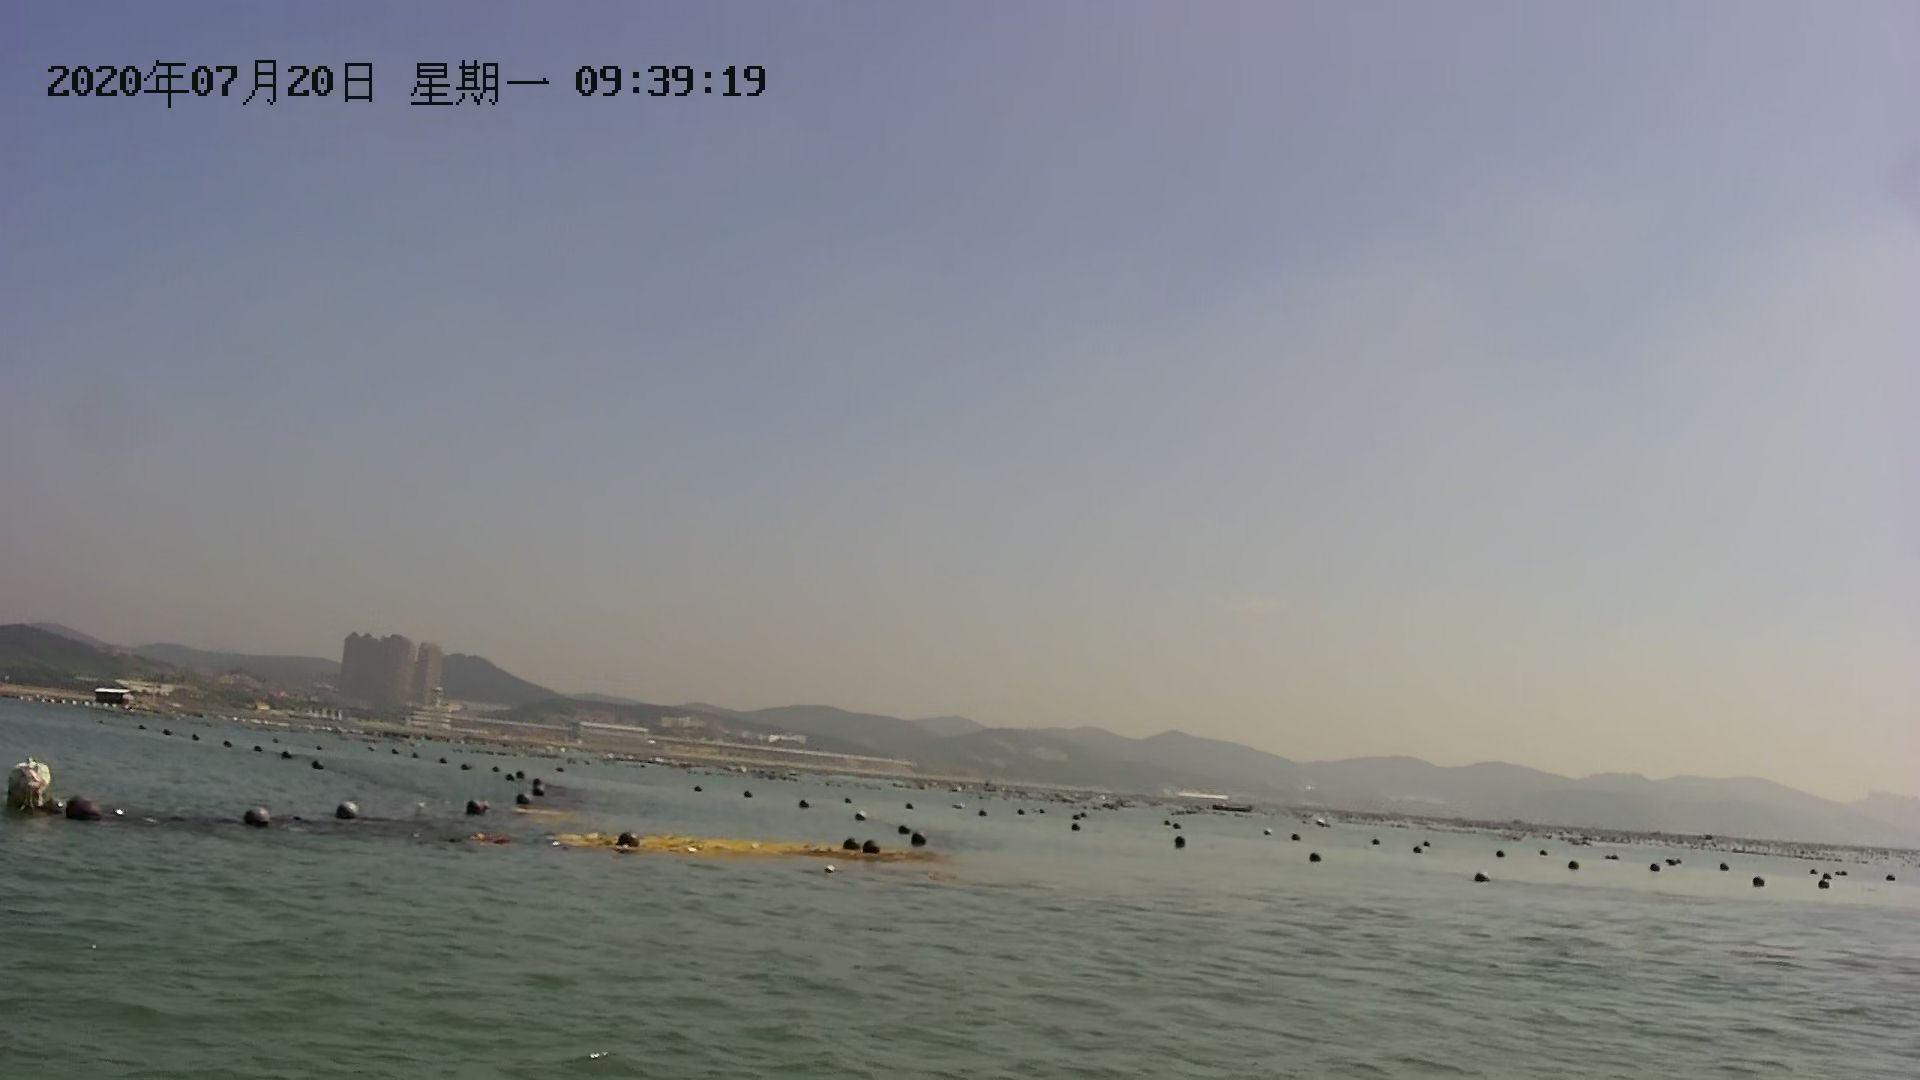ball: (1812, 868, 1840, 895), (1407, 835, 1445, 855), (243, 806, 280, 825), (334, 796, 367, 816), (849, 836, 880, 855), (473, 796, 495, 822), (1167, 835, 1192, 853), (907, 829, 928, 849), (1646, 858, 1668, 877), (621, 829, 642, 848), (1749, 873, 1778, 885), (1569, 856, 1588, 874), (1474, 866, 1491, 884), (516, 791, 534, 807), (1307, 849, 1325, 862)
rubbish: (11, 760, 116, 827)
